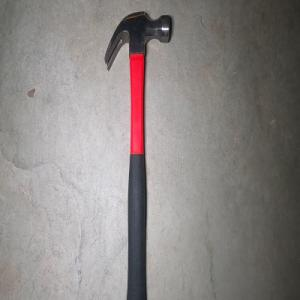Hammer: (103, 9, 171, 300)
